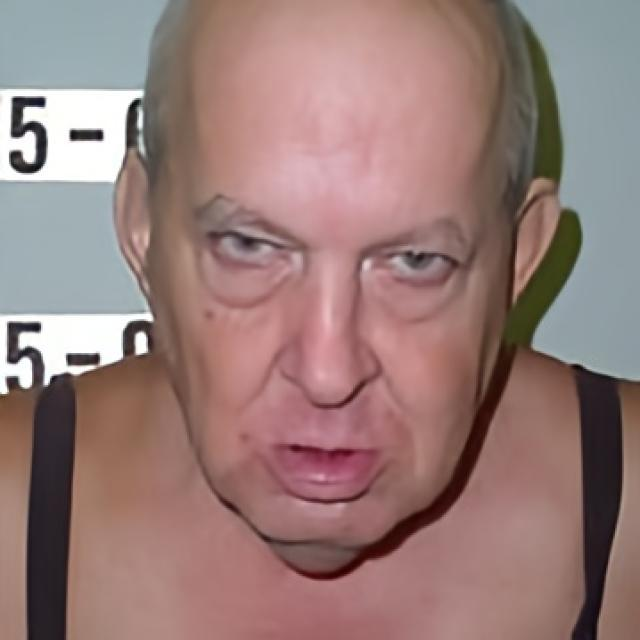anger: (162, 42, 508, 556)
